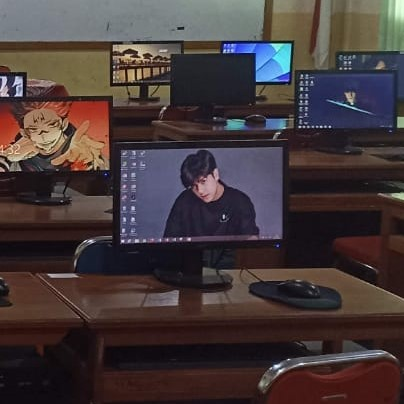monitor: (110, 139, 290, 256), (0, 96, 114, 199), (293, 69, 397, 133), (169, 53, 257, 109), (109, 41, 184, 88), (220, 40, 295, 86), (335, 51, 404, 100), (0, 72, 27, 98)
